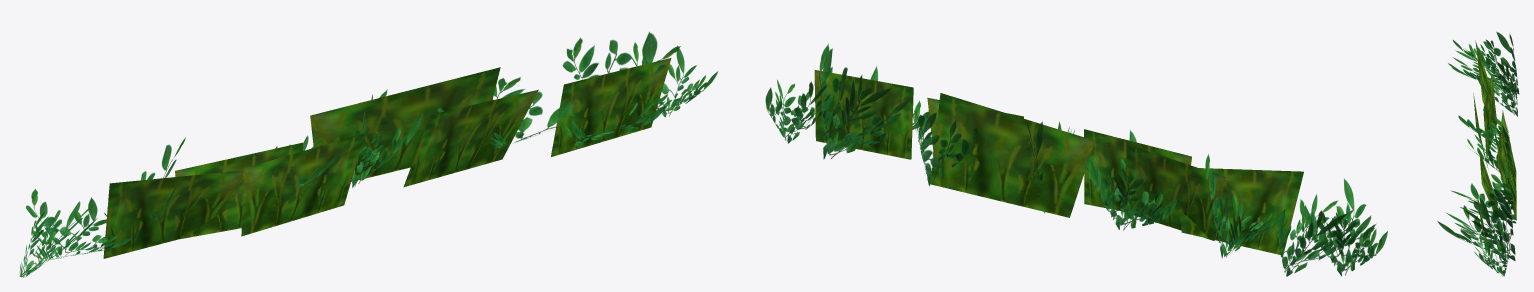
Rendered from cc_grass1.glb.
3 renders of one model, left to right at view 1: azimuth 30°, elevation 25°; view 2: azimuth 150°, elevation 25°; view 3: azimuth 270°, elevation 25°, orthographic. The views are drawn at different scales.
Parts seen in each view (by area): view 1: cc_grass1; view 2: cc_grass1; view 3: cc_grass1.
Boxes of the visible parts, <box> form: cc_grass1: <box>19,31,718,277</box>; cc_grass1: <box>765,43,1387,276</box>; cc_grass1: <box>1437,31,1519,276</box>.
Size of the model in its own units: 8.21 by 1.49 by 1.5.
Materials: 2 (2 with a texture image).
